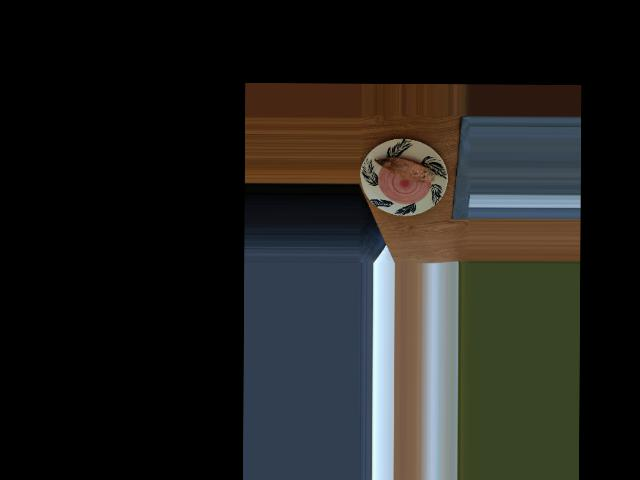sweet_potato: (379, 152, 433, 186)
